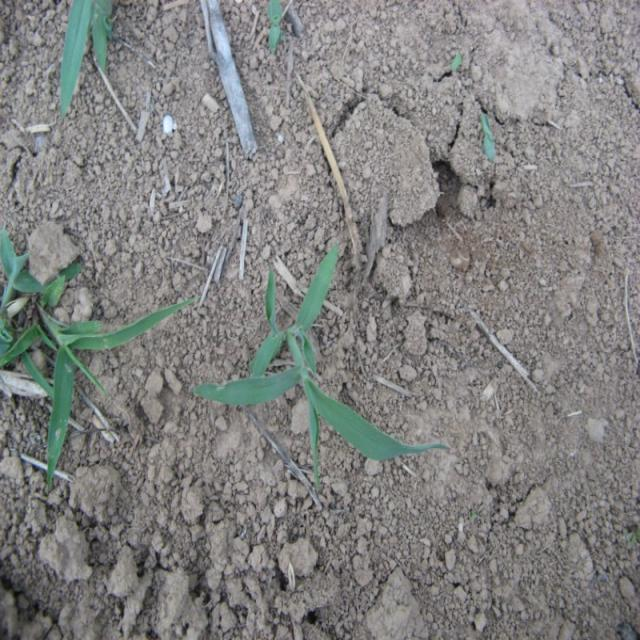bg: (195, 244, 451, 486), (1, 232, 189, 490)
